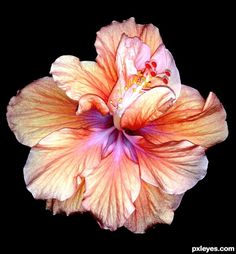Hibiscus: (10, 15, 228, 230)
